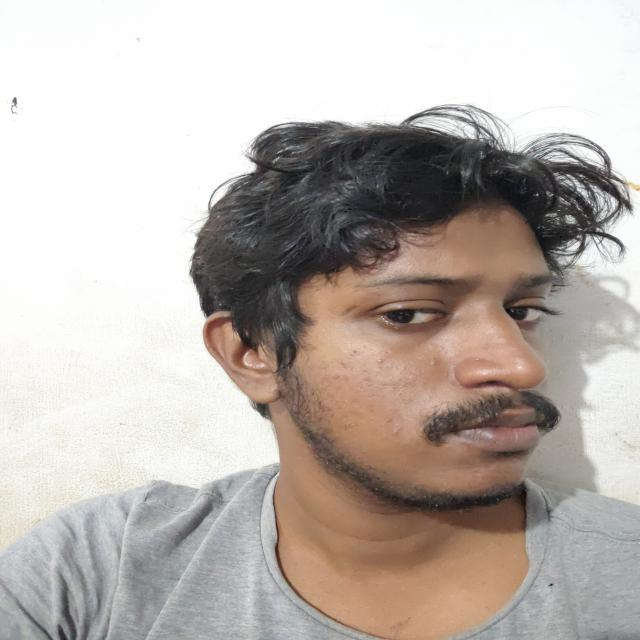Acne: (340, 341, 376, 386), (428, 358, 444, 371), (390, 424, 406, 437), (376, 357, 388, 367), (474, 356, 485, 362)
Englarged-Pores: (362, 368, 440, 401)
